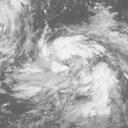cyclone: (34, 34, 101, 91)
